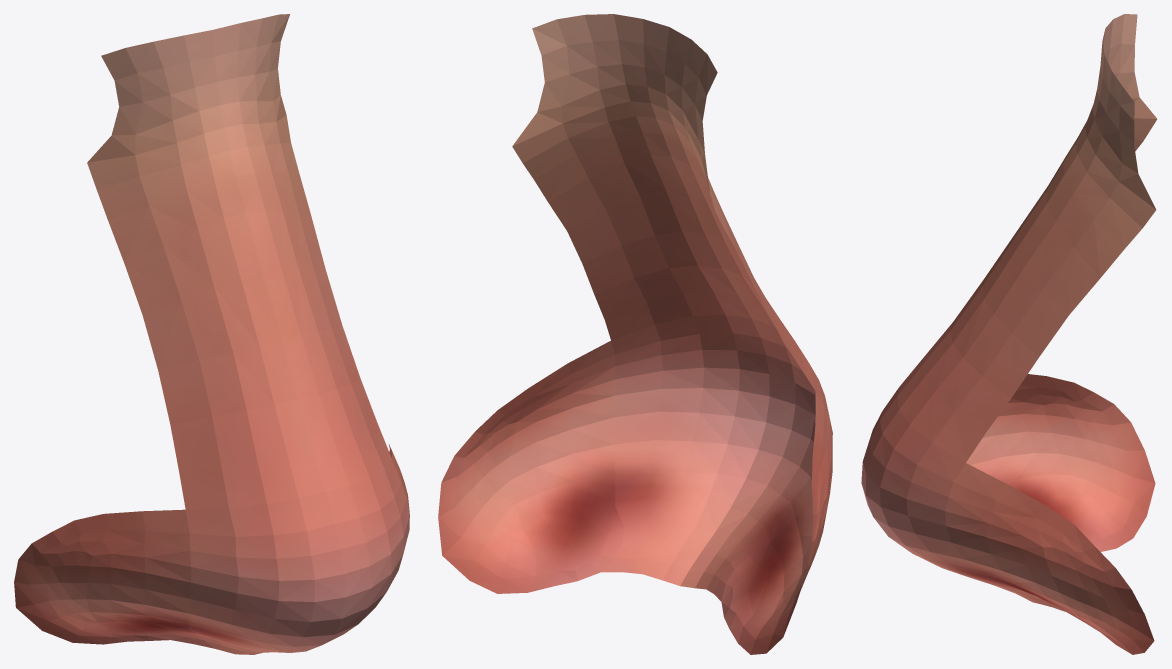
File: euro-fem-nose-sellion-wide.obj
3 renders of one model, left to right at view 1: azimuth 30°, elevation 25°; view 2: azimuth 150°, elevation 25°; view 3: azimuth 270°, elevation 25°, orthographic. The views are drawn at different scales.
Parts seen in each view (by area): view 1: euro-fem-nose-sel.005; view 2: euro-fem-nose-sel.005; view 3: euro-fem-nose-sel.005.
Part boxes in pixels (x1=…): euro-fem-nose-sel.005: x1=14, y1=14, x2=409, y2=654; euro-fem-nose-sel.005: x1=438, y1=14, x2=832, y2=654; euro-fem-nose-sel.005: x1=861, y1=14, x2=1157, y2=654.
Size of the model in its own units: 0.2198 by 0.3425 by 0.1653.
Materials: 1 (1 with a texture image).
